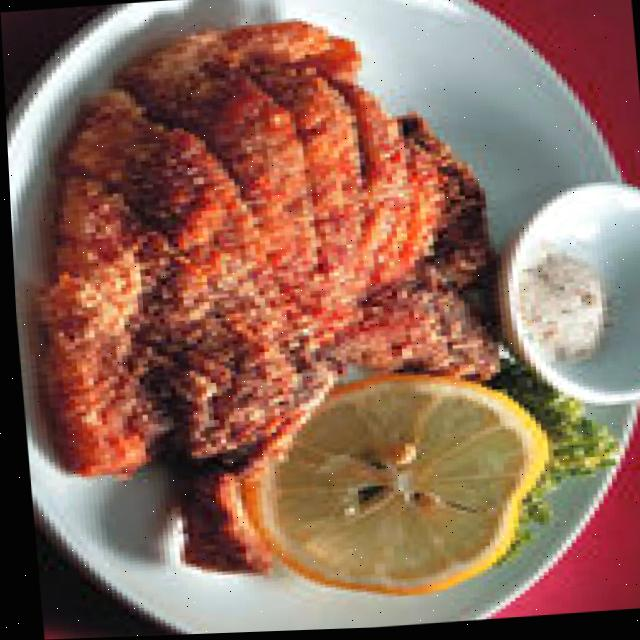鸡肉料理 含炸鸡: (0, 0, 570, 628)
